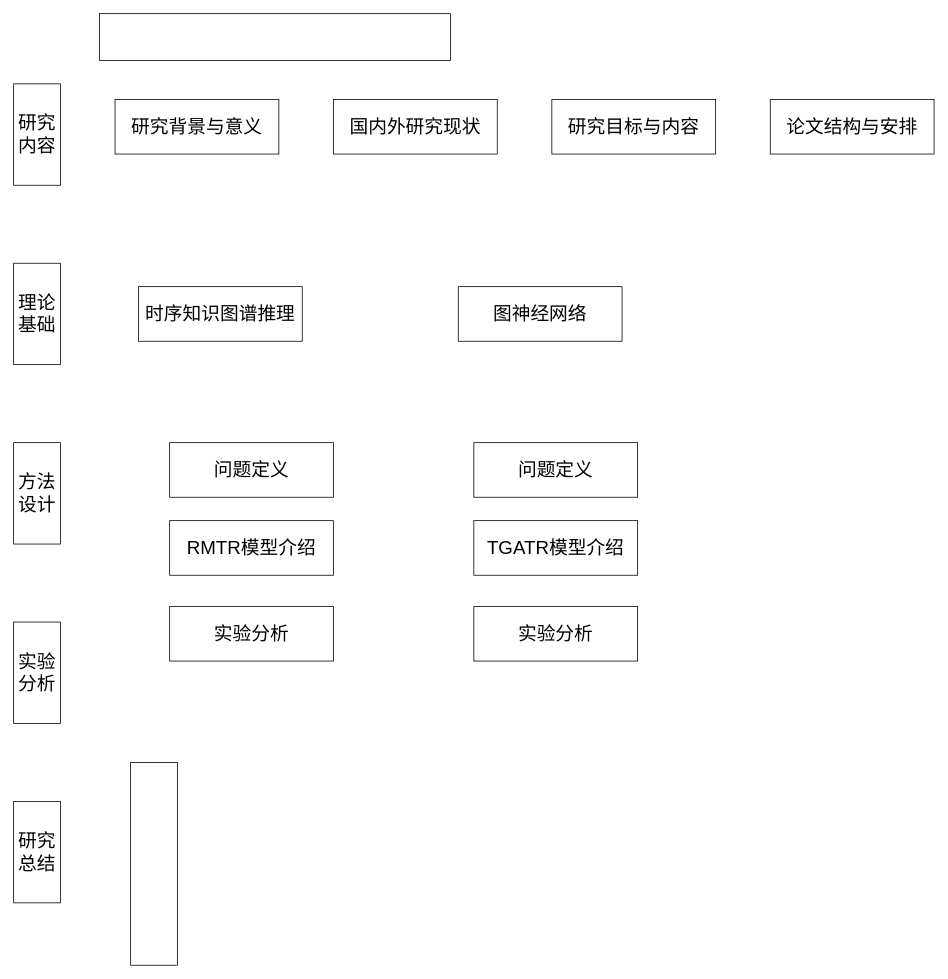
The diagram is 948 pixels wide and 979 high, and some of its shapes have lost their labels. The shapes that lost their labels are listed below. From the top down, each one's box as (x1, y1, x2, y2) in pixels, then its label:
(99, 13, 450, 60): 基于图神经网络的时序知识图谱推理
(130, 762, 177, 965): 数 据 集 与 评 估 指 标
